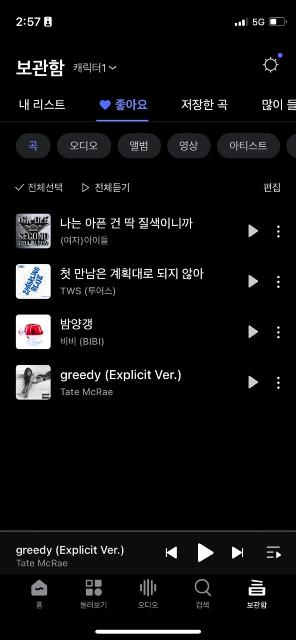Bottom_Navigation: (2, 574, 296, 640)
Icon: (30, 578, 48, 598), (198, 544, 216, 562), (138, 580, 158, 596), (85, 578, 102, 596), (263, 56, 279, 74), (195, 579, 211, 597), (247, 580, 265, 596), (265, 545, 281, 561), (165, 547, 177, 561), (232, 547, 244, 561), (249, 275, 260, 289), (248, 325, 258, 339), (249, 376, 259, 390), (100, 99, 110, 111), (248, 226, 258, 238), (82, 182, 90, 192), (16, 184, 24, 192), (276, 226, 280, 238), (276, 327, 280, 339), (109, 66, 116, 70), (278, 276, 280, 290), (277, 377, 279, 391)
Image: (16, 364, 50, 400), (17, 264, 52, 298), (17, 315, 52, 349), (16, 214, 50, 248)
List: (0, 199, 294, 411)
Multi_Tab: (0, 131, 296, 163), (0, 92, 296, 122)
Text: (60, 268, 204, 296), (61, 217, 193, 246), (60, 370, 182, 394), (17, 545, 124, 567), (62, 318, 105, 348), (18, 59, 64, 77), (19, 98, 64, 112), (182, 99, 227, 111), (229, 140, 267, 152), (116, 98, 148, 112), (72, 64, 106, 74), (28, 182, 62, 192), (95, 184, 130, 192), (80, 600, 108, 610), (70, 142, 98, 150), (130, 140, 148, 152), (180, 140, 198, 152), (246, 602, 268, 610), (264, 182, 280, 192), (139, 602, 159, 608), (28, 141, 38, 151), (197, 601, 209, 609), (35, 601, 42, 609)
TextButton: (217, 134, 279, 158), (56, 134, 111, 158), (118, 134, 162, 158), (168, 134, 211, 158), (16, 134, 50, 158)
TextImageButton: (79, 578, 108, 610), (137, 580, 159, 608), (246, 580, 266, 610), (194, 578, 212, 610), (32, 579, 48, 609)
Toolbar: (0, 44, 296, 84)
UpperTaskBar: (0, 0, 296, 44)
